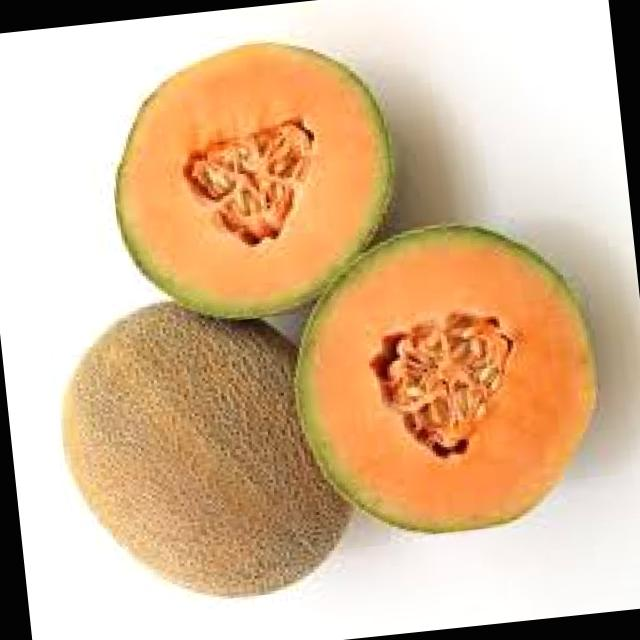cantaloupe: (280, 207, 612, 545), (100, 29, 409, 329), (51, 290, 321, 608)
